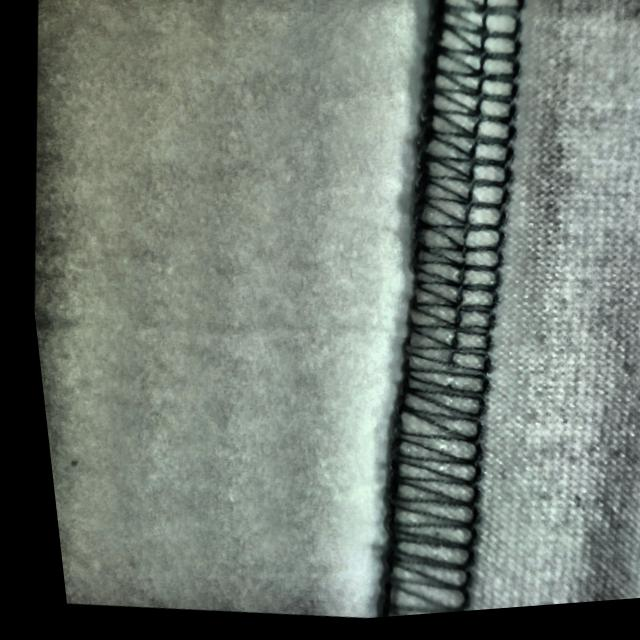Stitch: (335, 132, 544, 576)
